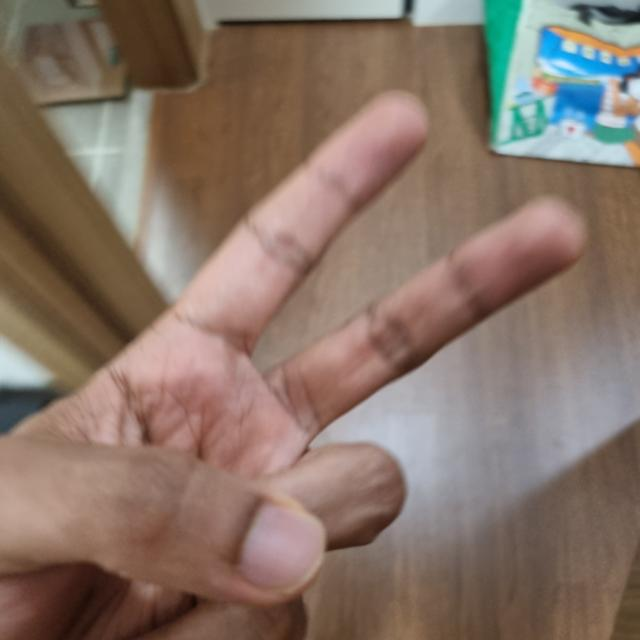Scissors: (5, 100, 577, 627)
